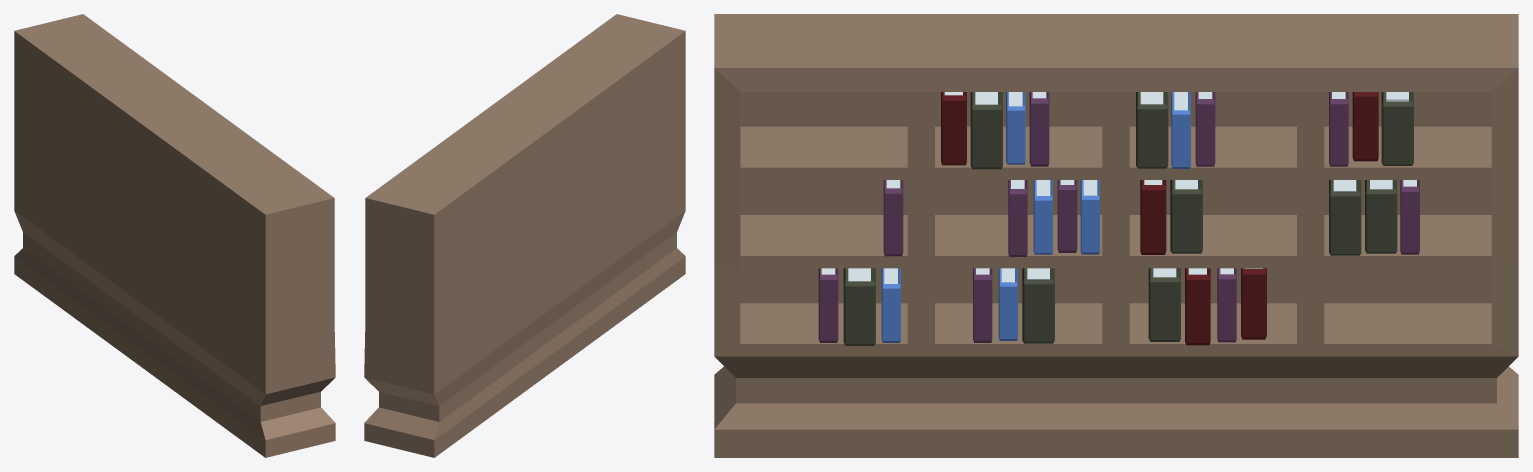
File: w_r_bookshelf.glb
The picture shows the model from 3 angles, left to right: view 1: azimuth 30°, elevation 25°; view 2: azimuth 150°, elevation 25°; view 3: azimuth 270°, elevation 25°; orthographic projection. The views are drawn at different scales.
Parts seen in each view (by area): view 1: Bookshelf; view 2: Bookshelf; view 3: Bookshelf, Cover_C.001, Cover_C.008, Cover_C.002, Cover_C.003, Cover_C.007, Cover_C.004, Cover_C.005, Cover_C.006, Cover_C.009, Cover_A, Cover_A.002 (+19 smaller).
Boxes of the visible parts, x1=… form: Bookshelf: x1=14, y1=14, x2=335, y2=457; Bookshelf: x1=364, y1=14, x2=685, y2=457; Bookshelf: x1=714, y1=14, x2=1518, y2=457; Cover_C.001: x1=970, y1=92, x2=1002, y2=169; Cover_C.008: x1=843, y1=268, x2=875, y2=345; Cover_C.002: x1=1136, y1=92, x2=1168, y2=168; Cover_C.003: x1=1329, y1=180, x2=1361, y2=255; Cover_C.007: x1=1022, y1=268, x2=1054, y2=343; Cover_C.004: x1=1365, y1=180, x2=1397, y2=253; Cover_C.005: x1=1381, y1=92, x2=1413, y2=165; Cover_C.006: x1=1148, y1=268, x2=1180, y2=341; Cover_C.009: x1=1170, y1=180, x2=1202, y2=253; Cover_A: x1=1140, y1=180, x2=1166, y2=254; Cover_A.002: x1=1185, y1=268, x2=1210, y2=345.
Size of the model in its own units: 2.11 by 6.62 by 12.39.
